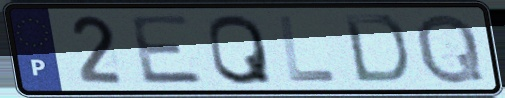2: (70, 13, 125, 86)
D: (339, 12, 412, 86)
E: (126, 13, 208, 86)
L: (275, 13, 341, 85)
Q: (413, 11, 488, 87), (205, 11, 276, 87)
